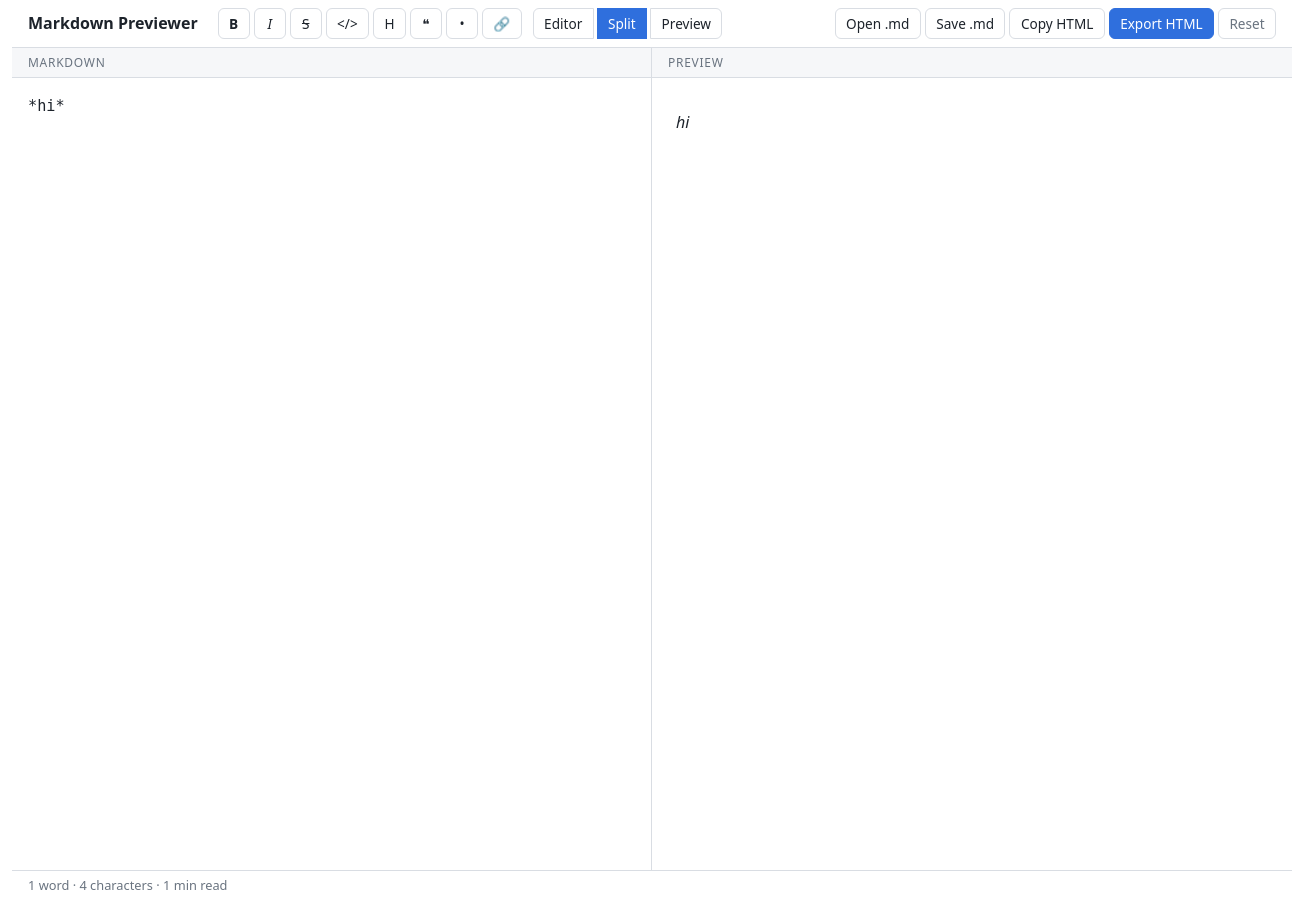
Test: <App /> › copies HTML to the clipboard
Step 1. Click the button "Copy HTML" → (1057, 23), box x1=1010 y1=8 x2=1105 y2=39
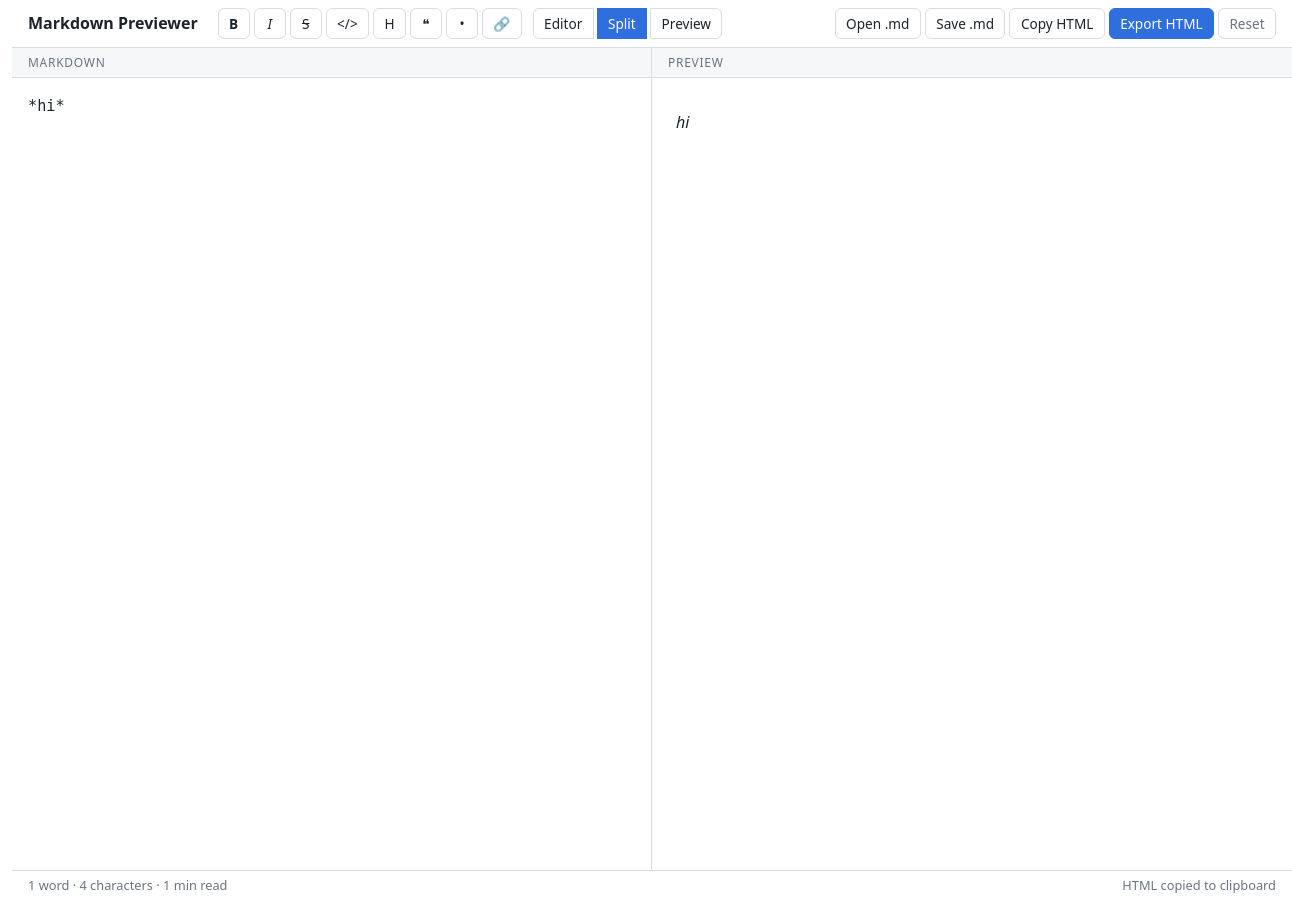
Check: the message reads "HTML copied to clipboard", box x1=1122 y1=876 x2=1276 y2=894
